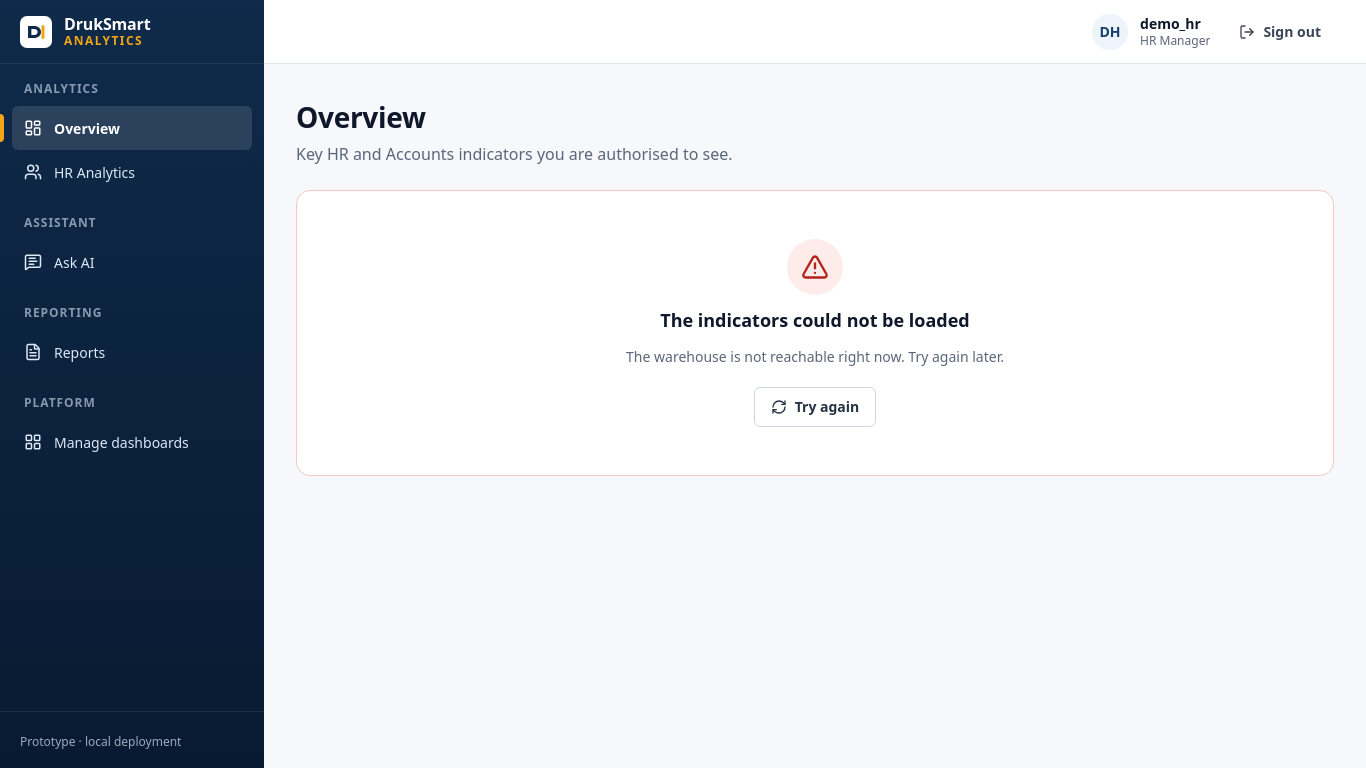
Scenario: Overview › offers a retry when the warehouse is unavailable
expect the message shows "The warehouse is not reachable right now": met, box x1=626 y1=347 x2=1004 y2=366
What coordinates should you click on to do the following:
click the button "Try again"
I would click on:
 (815, 407)
Its box is x1=754 y1=387 x2=876 y2=427.
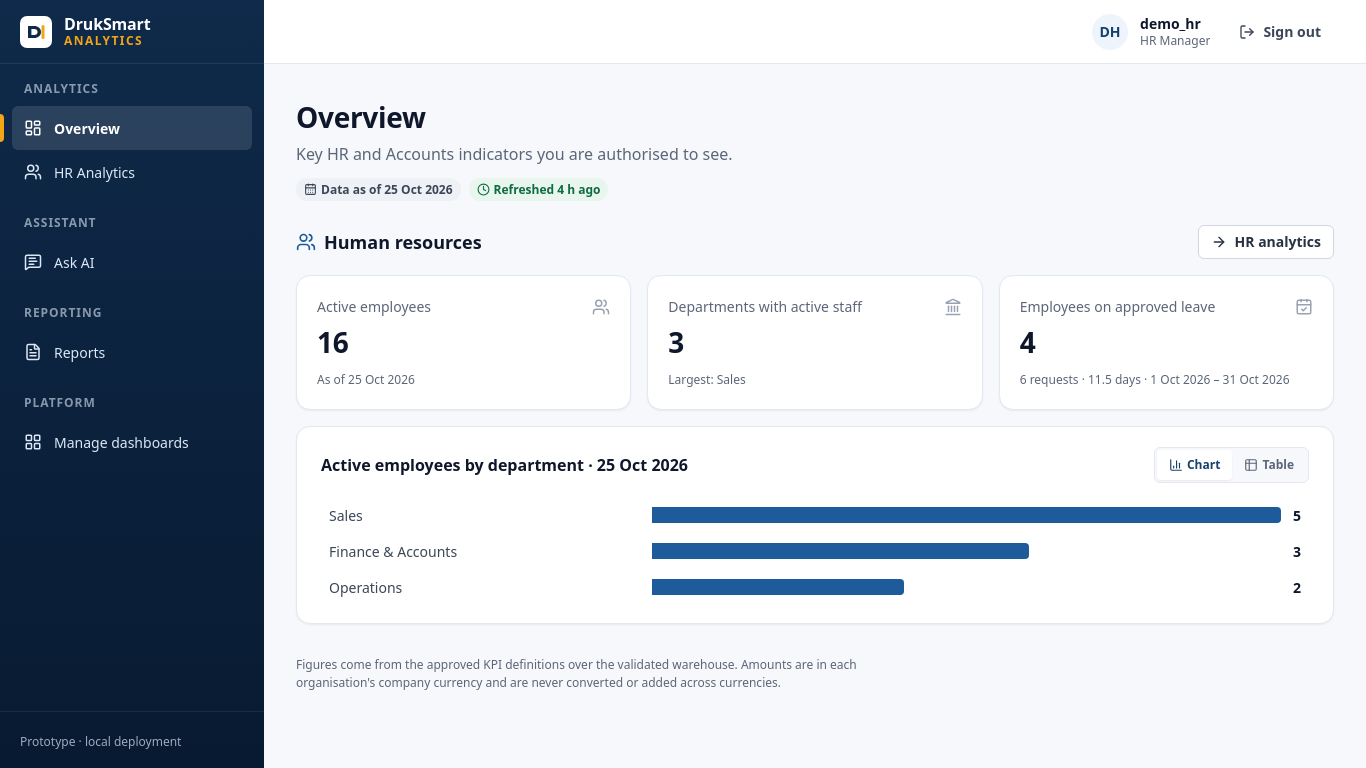
expect the text "Active employees" is shown: met, box x1=317 y1=296 x2=431 y2=317
